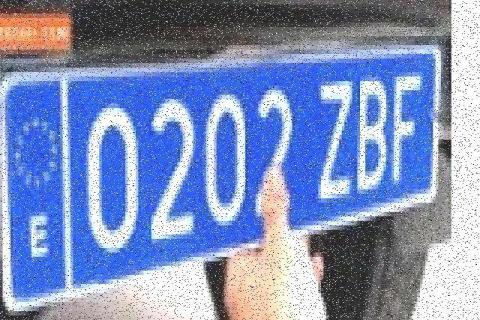LicensePlate: (2, 47, 442, 315)
